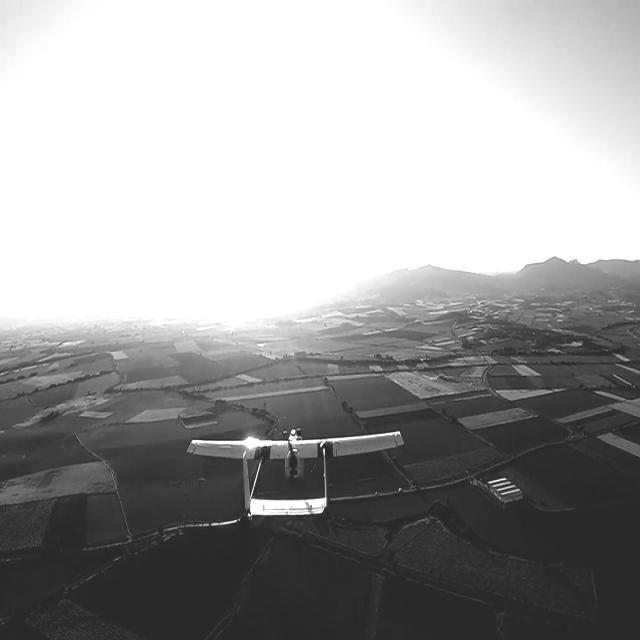iha: (183, 456, 410, 495)
